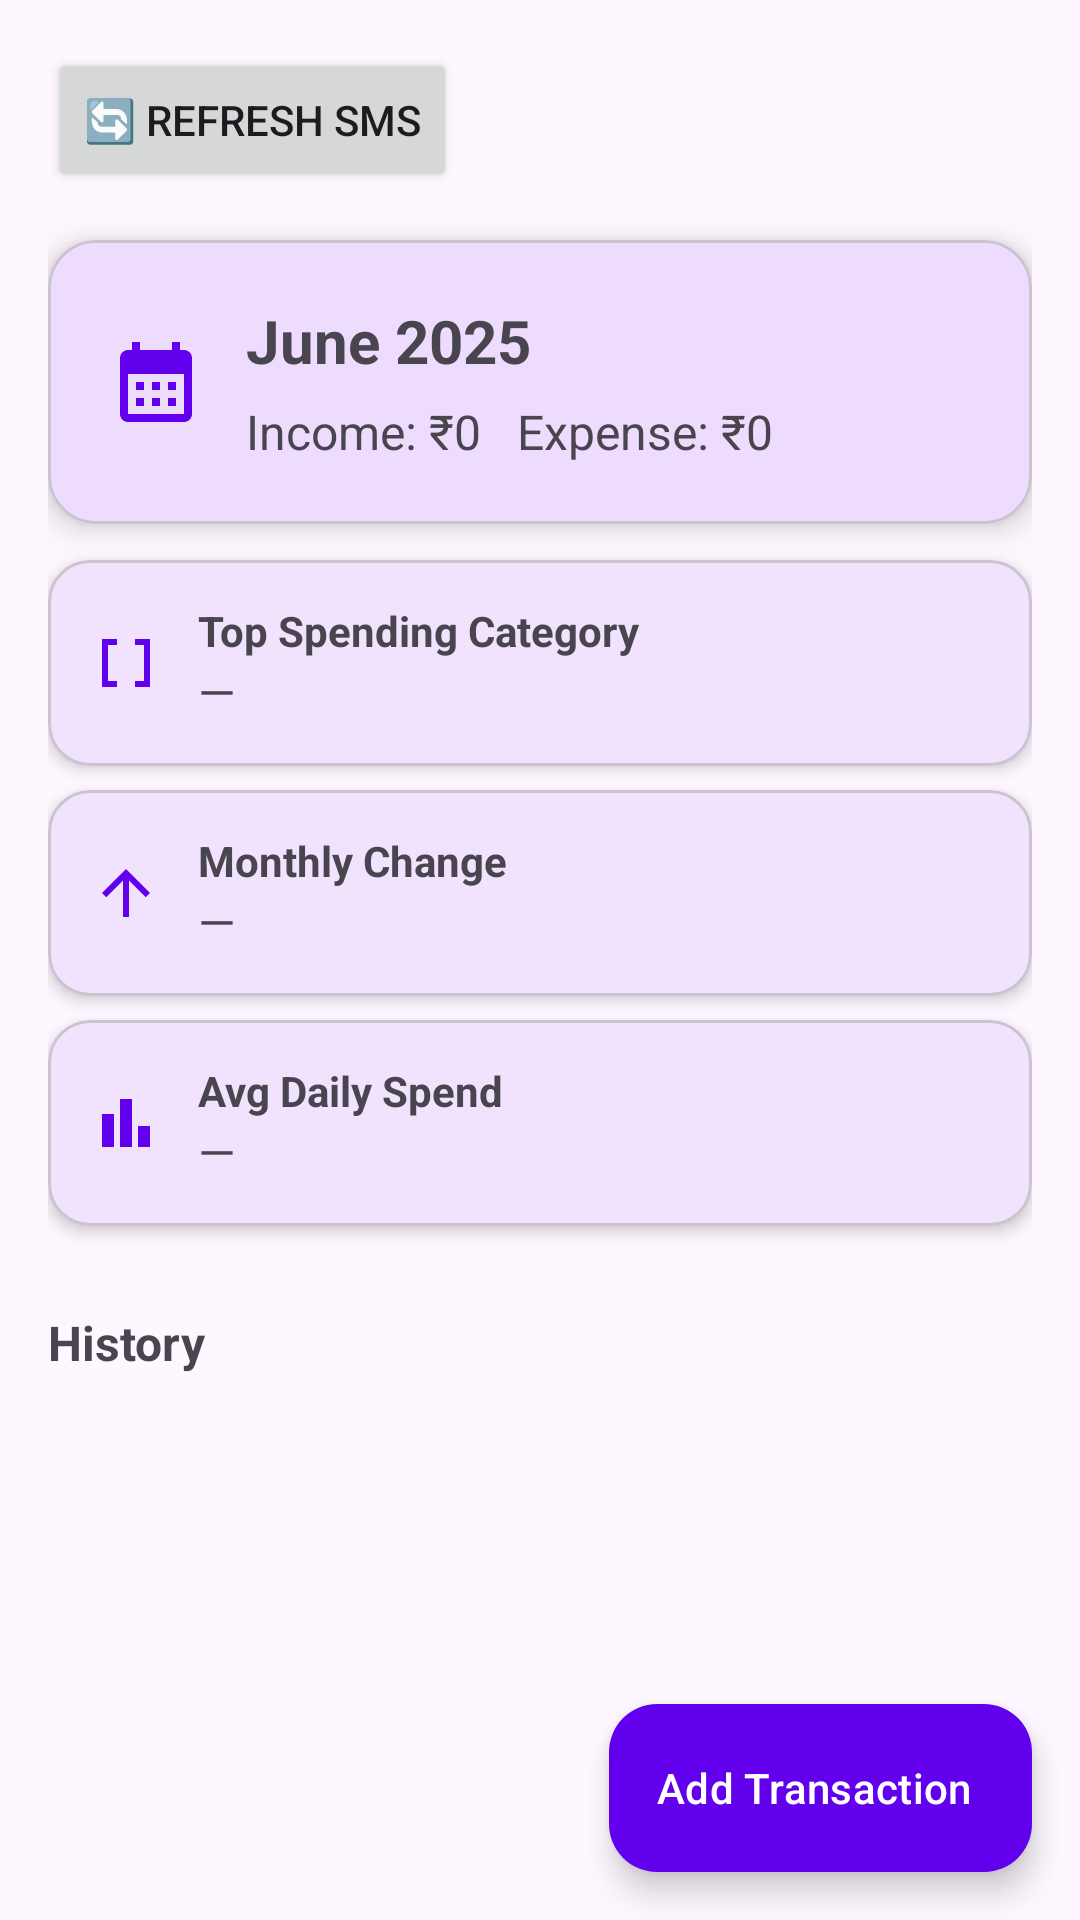

Named icons in this screenshot (1080*1920) and their bounding boxes, (x1, y1, x2, y2):
Current Month: (120, 342, 192, 422)
